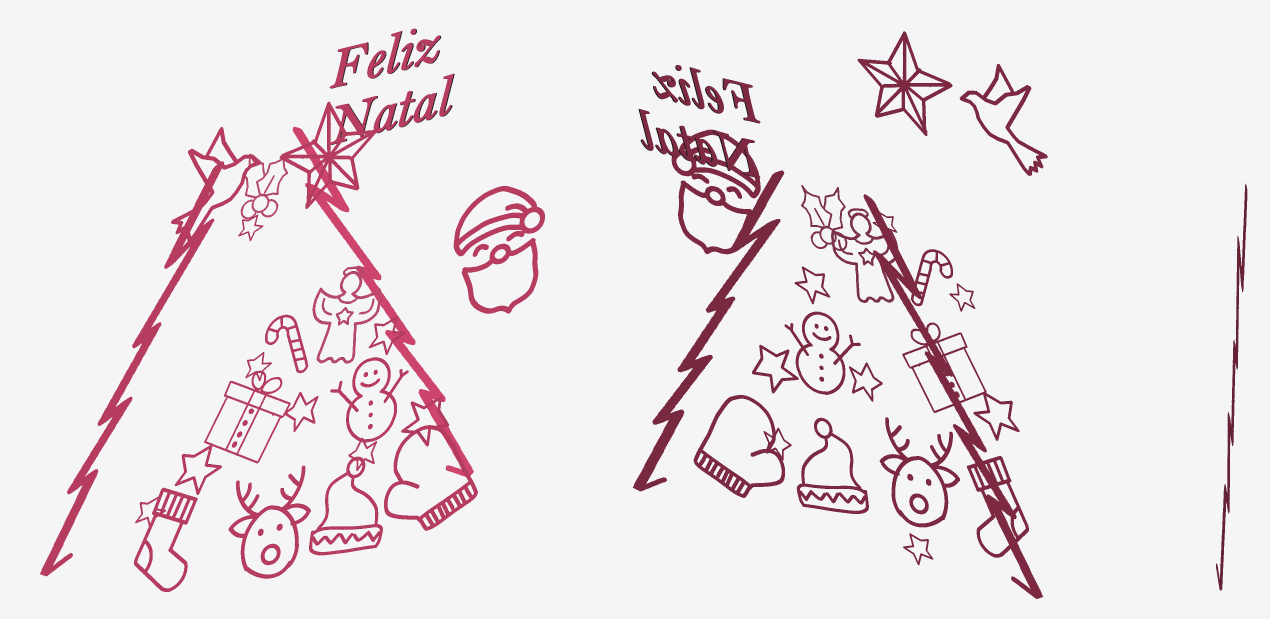
Rendered from arvoreNatal.glb.
3 renders of one model, left to right at view 1: azimuth 30°, elevation 25°; view 2: azimuth 150°, elevation 25°; view 3: azimuth 270°, elevation 25°, orthographic. The views are drawn at different scales.
Visible parts, largest first — view 1: Plane.001, Plane.002, Plane, papai.001, star, veado, mao, gorro, passaro, pe, papai, presente (+2 smaller); view 2: Plane.001, Plane.002, Plane, papai.001, star, veado, mao, passaro, gorro, pe, boneco, papai (+3 smaller); view 3: Plane.002.
Boxes of the visible parts, bbox=[...] form: Plane.001: bbox=[40, 161, 223, 576]; Plane.002: bbox=[292, 127, 473, 476]; Plane: bbox=[329, 28, 454, 144]; papai.001: bbox=[453, 186, 544, 313]; star: bbox=[279, 101, 376, 208]; veado: bbox=[228, 465, 310, 578]; mao: bbox=[384, 425, 477, 530]; gorro: bbox=[309, 456, 382, 555]; passaro: bbox=[171, 127, 261, 241]; pe: bbox=[134, 487, 197, 591]; papai: bbox=[312, 266, 381, 363]; presente: bbox=[204, 370, 290, 463]; Plane.001: bbox=[863, 194, 1042, 598]; Plane.002: bbox=[633, 170, 784, 491]; Plane: bbox=[638, 65, 760, 178]; papai.001: bbox=[671, 129, 760, 254]; star: bbox=[857, 31, 952, 135]; veado: bbox=[879, 417, 959, 527]; mao: bbox=[693, 395, 784, 497]; passaro: bbox=[959, 64, 1047, 175]; gorro: bbox=[796, 417, 868, 513]; pe: bbox=[967, 456, 1028, 557]; boneco: bbox=[784, 311, 860, 394]; papai: bbox=[831, 208, 898, 302]; Plane.002: bbox=[1216, 183, 1247, 590].
Size of the model in its own units: 2.07 by 2.05 by 0.6159.
16 materials, 16 textured.
